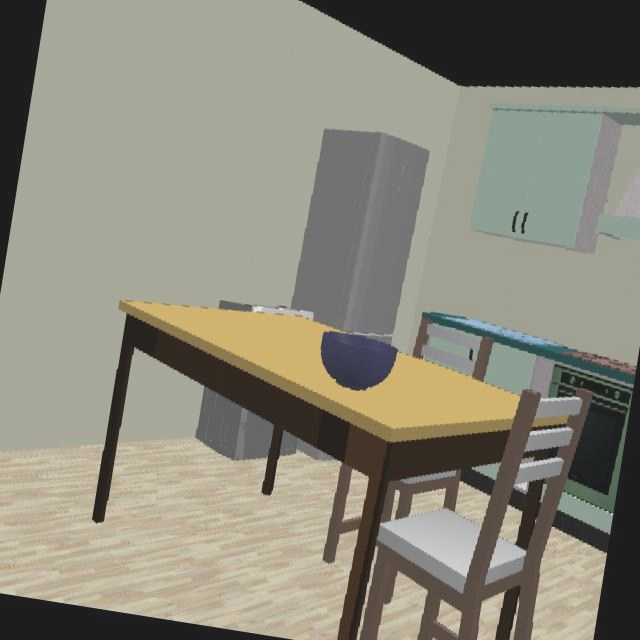cabinet: (468, 105, 640, 256), (483, 343, 555, 395)
chair: (323, 389, 591, 640), (420, 325, 482, 378)
fridge: (291, 129, 430, 339)
oven: (554, 352, 636, 515)
sink: (422, 313, 569, 361)
stove: (581, 346, 639, 366)
table: (120, 301, 520, 640)
